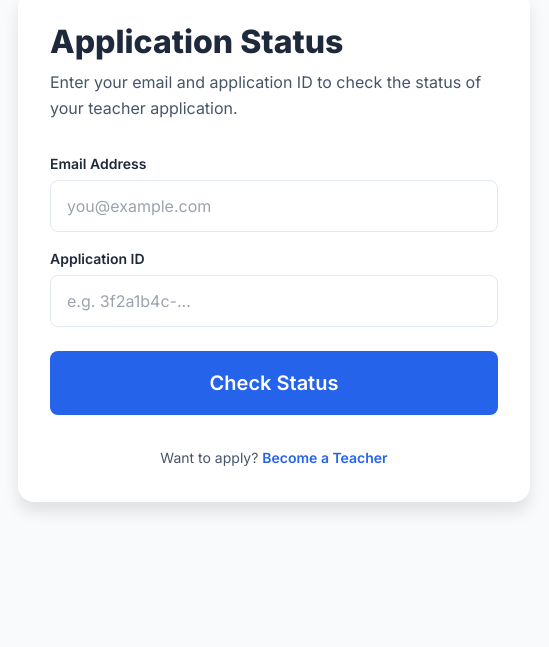
Test: ApplicationStatus › shows StatusBadge after successful check
This screenshot has width=549, height=647.
Type "jane@example.com" into the field labelled "Email Address". click: (274, 206)
box: [50,180,498,232]
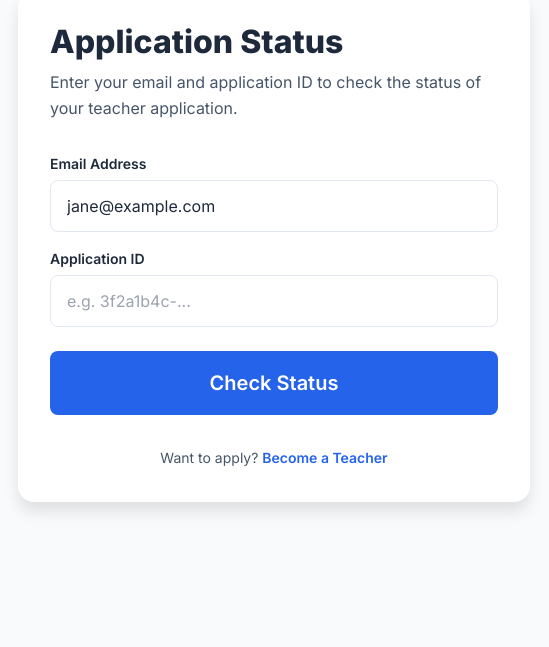
Type "abc-123" into the field labelled "Application ID". click: (274, 301)
box: [50,275,498,327]
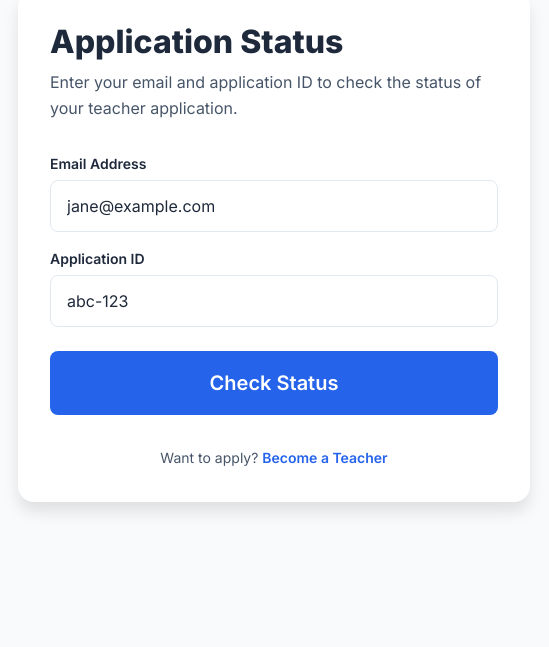
Click the button "Check Status". click: (274, 383)
box: [50,351,498,415]
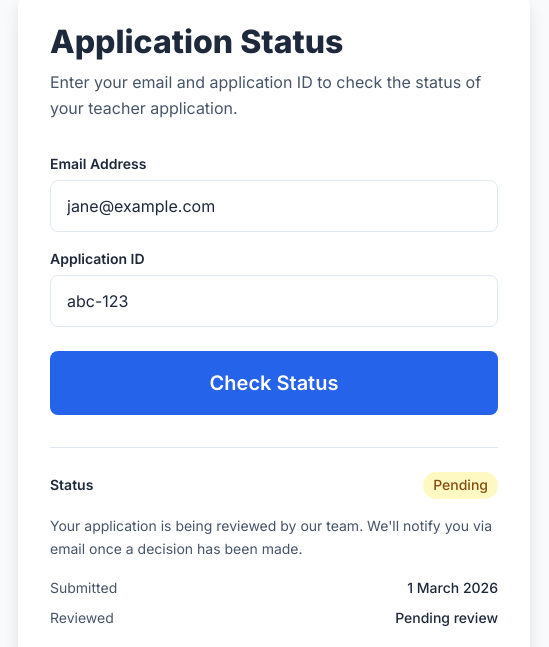
Expected: the text "Pending" is shown, [423,472,498,499]
